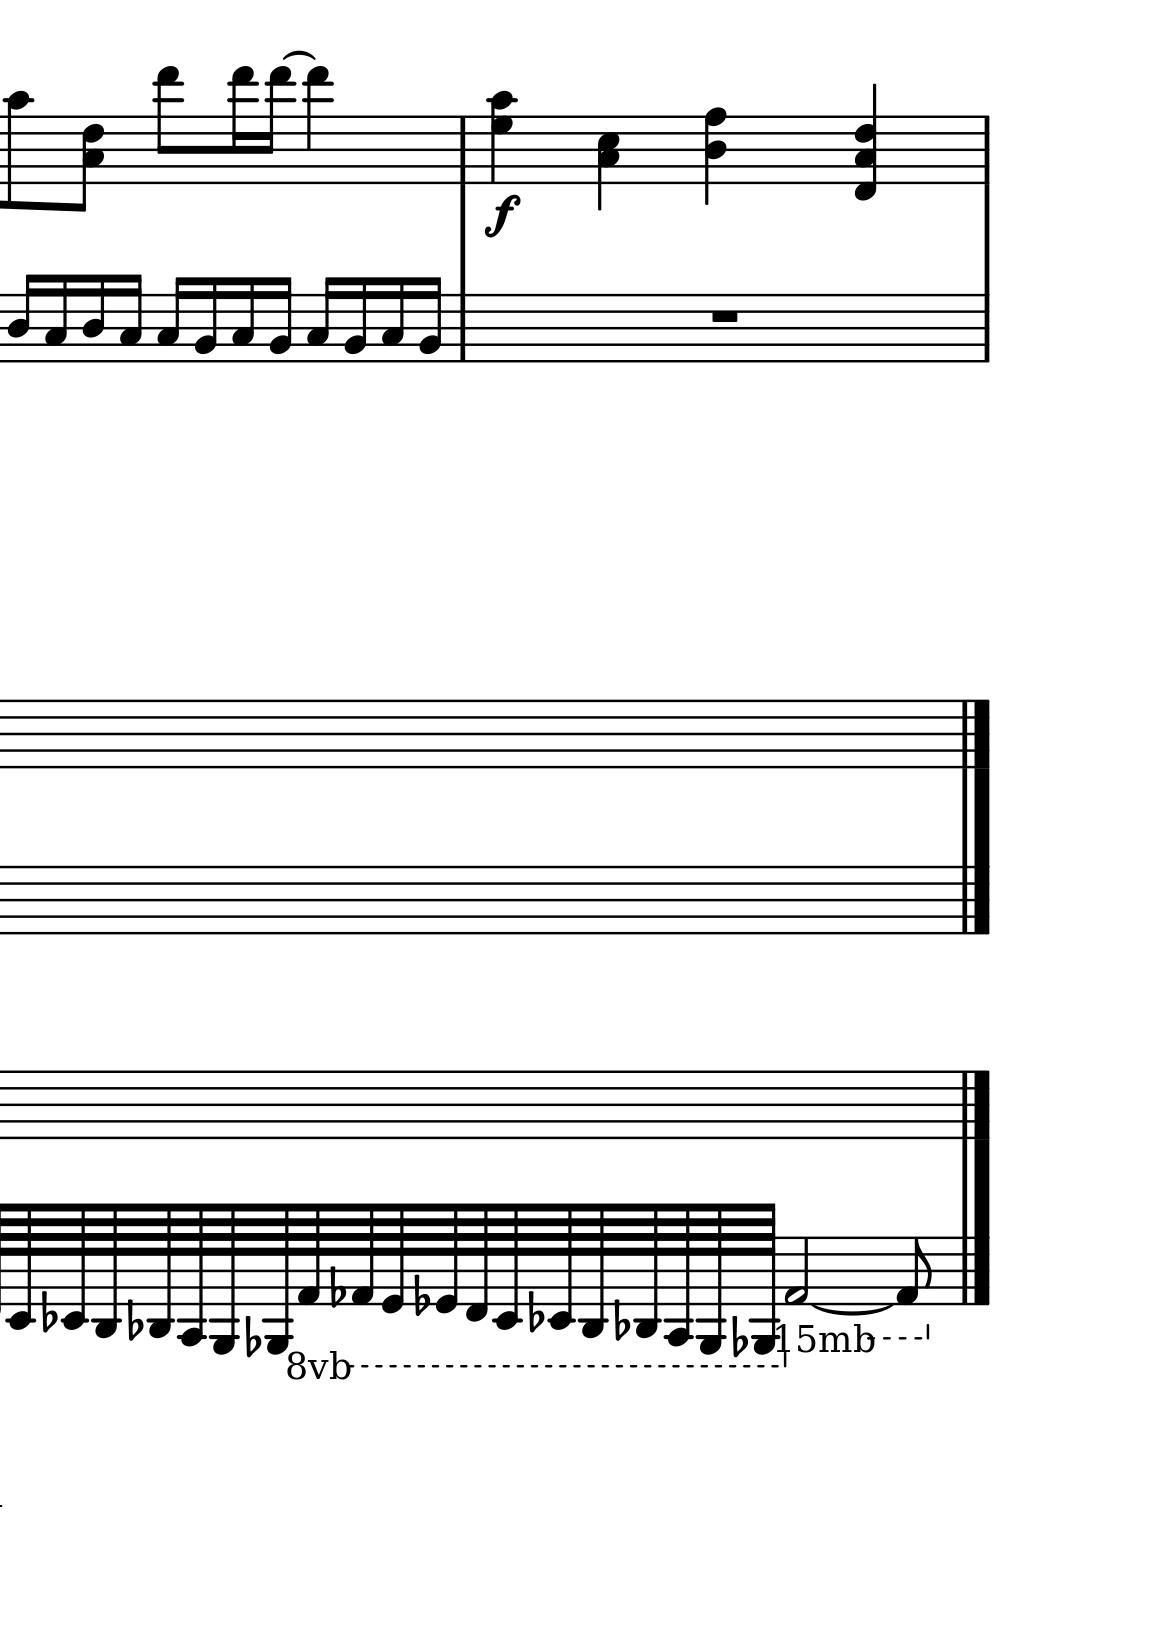16_13: (261, 65, 294, 184), (227, 66, 257, 184)
16_2: (416, 275, 444, 365), (267, 275, 293, 365), (193, 275, 219, 364), (343, 275, 369, 364)
16_3: (304, 275, 338, 364), (155, 275, 188, 363), (42, 272, 70, 364), (379, 275, 406, 364), (117, 273, 143, 364), (229, 275, 256, 364)
16_4: (5, 272, 37, 364), (81, 272, 107, 364)
2_1: (784, 1235, 809, 1306)
4_13: (304, 65, 332, 187)
4_3_5: (596, 113, 620, 214)
4_6_8: (703, 107, 727, 206)
4_7_10: (486, 92, 519, 184)
4_th: (852, 81, 881, 203)
64_-1: (465, 1203, 491, 1321)
64_-2: (5, 1203, 36, 1330), (60, 1203, 91, 1330), (545, 1203, 576, 1330), (492, 1201, 522, 1331)
64_-3: (90, 1203, 123, 1338), (145, 1203, 177, 1338), (576, 1203, 608, 1338), (630, 1203, 662, 1338)
64_-4: (176, 1203, 207, 1347), (665, 1203, 694, 1347)
64_-5: (746, 1203, 780, 1355), (207, 1203, 241, 1355), (261, 1203, 294, 1355), (694, 1203, 728, 1355)
64_0: (434, 1203, 460, 1313), (382, 1203, 406, 1313)
64_1: (349, 1203, 377, 1306), (295, 1203, 323, 1305)
8_1: (894, 1236, 933, 1306)
8_10: (2, 90, 34, 212)
8_13: (153, 65, 182, 184)
Final_barline: (958, 1068, 994, 1139), (959, 697, 994, 769), (958, 865, 992, 935), (958, 1236, 992, 1306)
Flat: (125, 1299, 145, 1343), (242, 1313, 261, 1360), (612, 1297, 631, 1343), (328, 1265, 347, 1310), (411, 1274, 430, 1318), (39, 1290, 57, 1333), (731, 1313, 748, 1358), (526, 1290, 544, 1333)
Rests1: (706, 307, 742, 326)
Single_barline: (453, 116, 476, 184), (975, 294, 997, 363), (450, 295, 473, 361), (976, 116, 997, 184)
Slur: (810, 1304, 898, 1317), (281, 50, 318, 64)
f: (482, 193, 521, 238)
